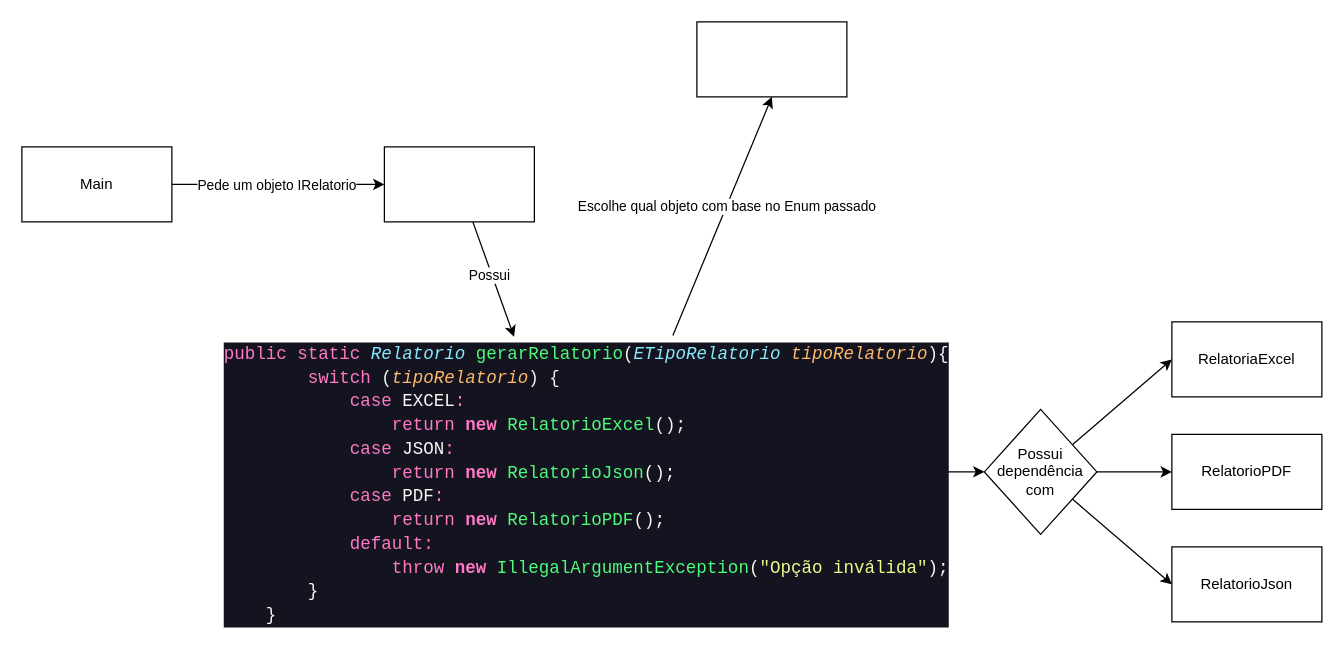
This 1344x656 diagram has some shape labels left out. Each missing label, with the centre of its shape:
"ETipoRelatorio" belongs at point 771,59.
"RelatorioFactory" belongs at point 458,184.
